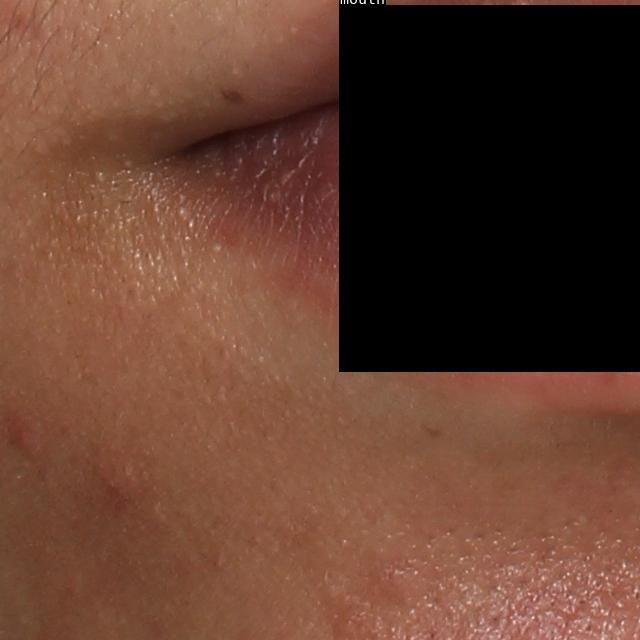nevus: (220, 82, 246, 105)
papule: (97, 453, 147, 505), (7, 418, 44, 461)
